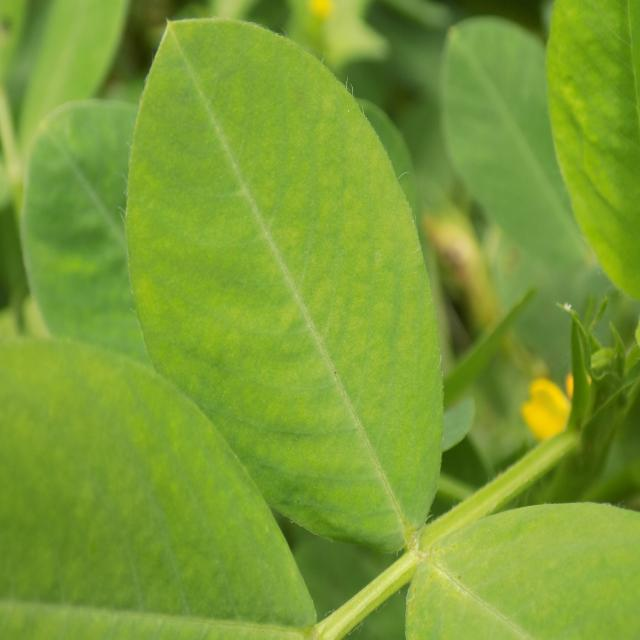Ground nut_healthy: (124, 15, 443, 560), (23, 101, 310, 438)
